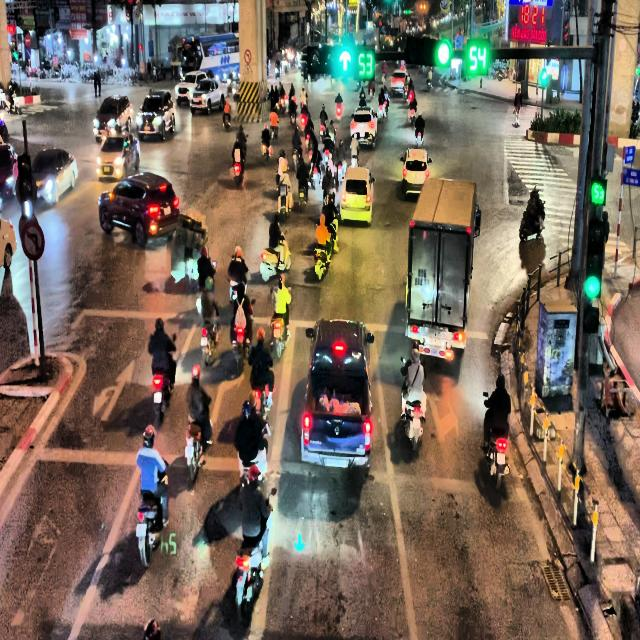lisence_plate: (414, 269, 429, 292), (324, 457, 348, 469), (429, 337, 443, 352), (350, 197, 360, 209), (162, 205, 172, 213), (412, 173, 420, 183), (362, 134, 365, 139)
